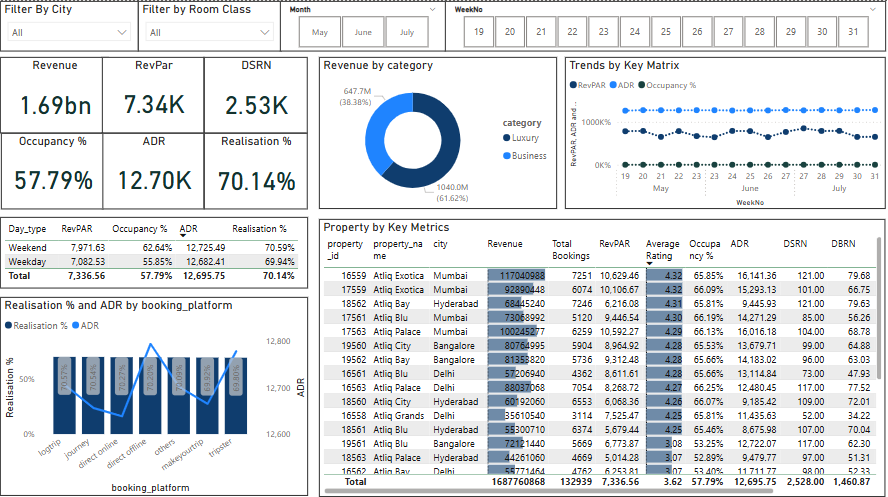

Layout of this report page (visuals, bound fields, positions):
{"tool":"powerbi","page":{"name":"Summary","canvas":[1280,720],"ordinal":0},"visuals":[{"type":"slicer","title":"Filter By City","fields":{"Values":["dim hotels.city"]},"box":[0,0,198.4,72.5],"z":0},{"type":"slicer","title":"Filter by Room Class","fields":{"Values":["dim rooms.room_class"]},"box":[196.5,0,205,72],"z":1000},{"type":"slicer","fields":{"Values":["dim date.mmm yy.Variation.Date Hierarchy.Month"]},"box":[400.2,0,236.7,72],"z":2000},{"type":"slicer","fields":{"Values":["dim date.WeekNo"]},"box":[635.7,0,629.6,72],"z":3000},{"type":"donutChart","fields":{"Category":["dim hotels.category"],"Y":["My_Measures.Revenue"]},"box":[456.4,80.5,340.4,217.2],"z":4000},{"type":"card","title":"Revenue","fields":{"Values":["My_Measures.Total Revenue"]},"box":[0,80.5,155,108.6],"z":5000},{"type":"card","title":"RevPar","fields":{"Values":["My_Measures.RevPAR"]},"box":[146.4,80.5,146.4,108.6],"z":6000},{"type":"card","title":"DSRN","fields":{"Values":["My_Measures.DSRN"]},"box":[291.6,80.5,147.6,108.6],"z":7000},{"type":"card","title":"ADR","fields":{"Values":["My_Measures.ADR"]},"box":[146.4,187.9,146.4,108.6],"z":8000},{"type":"card","title":"Occupancy %","fields":{"Values":["My_Measures.Occupancy %"]},"box":[1.2,187.9,146.4,108.6],"z":9000},{"type":"card","title":"Realisation %","fields":{"Values":["My_Measures.Realisation %"]},"box":[291.6,187.9,147.6,108.6],"z":10000},{"type":"tableEx","title":"Property by Key Metrics","fields":{"Values":["dim hotels.property_id","dim hotels.property_name","dim hotels.city","My_Measures.Revenue","My_Measures.Total Bookings","My_Measures.RevPAR","My_Measures.Average Rating","My_Measures.Occupancy %","My_Measures.ADR","My_Measures.DSRN","My_Measures.DBRN","My_Measures.DURN"]},"box":[456.4,311.2,809,396.6],"z":11000},{"type":"tableEx","fields":{"Values":["dim date.Day_type","My_Measures.RevPAR","My_Measures.Occupancy %","My_Measures.ADR","My_Measures.Realisation %"]},"box":[0,308.7,440.5,102.5],"z":12000},{"type":"lineChart","title":"Trends by Key Matrix","fields":{"Category":["dim date.mmm yy.Variation.Date Hierarchy.Month","dim date.WeekNo"],"Y":["My_Measures.RevPAR","My_Measures.ADR","My_Measures.Occupancy %"]},"box":[807.8,80.5,457.6,217.2],"z":13000},{"type":"lineStackedColumnComboChart","fields":{"Category":["fact_bookings.booking_platform"],"Y":["My_Measures.Realisation %"],"Y2":["My_Measures.ADR"]},"box":[0,423.4,440.5,284.3],"z":14000}]}

Visuals, with their boxes in screenshot pixels (x1, y1, x2, y2), scaled from the page's 1280x720 canvas onto the 888x497 screenshot:
"Filter By City" slicer: bbox=[0, 0, 138, 50]
"Filter by Room Class" slicer: bbox=[136, 0, 279, 50]
slicer - dim date.mmm yy.Variation.Date Hierarchy.Month: bbox=[278, 0, 442, 50]
slicer - dim date.WeekNo: bbox=[441, 0, 878, 50]
donutChart - dim hotels.category x My_Measures.Revenue: bbox=[317, 56, 553, 205]
"Revenue" card: bbox=[0, 56, 108, 131]
"RevPar" card: bbox=[102, 56, 203, 131]
"DSRN" card: bbox=[202, 56, 305, 131]
"ADR" card: bbox=[102, 130, 203, 205]
"Occupancy %" card: bbox=[1, 130, 102, 205]
"Realisation %" card: bbox=[202, 130, 305, 205]
"Property by Key Metrics" tableEx: bbox=[317, 215, 878, 489]
tableEx - dim date.Day_type x My_Measures.RevPAR: bbox=[0, 213, 306, 284]
"Trends by Key Matrix" lineChart: bbox=[560, 56, 878, 205]
lineStackedColumnComboChart - fact_bookings.booking_platform x My_Measures.Realisation %: bbox=[0, 292, 306, 489]
